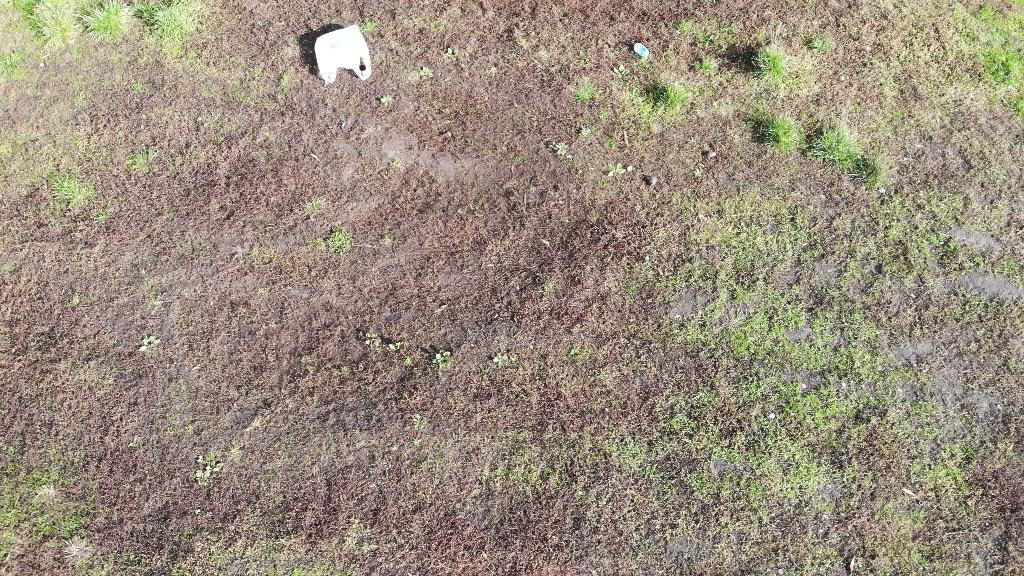garbage: (313, 23, 375, 87), (312, 23, 373, 85), (632, 41, 650, 58)
